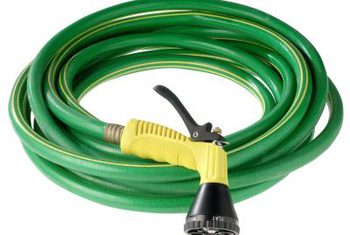Nonrec_Tangler: (16, 1, 335, 224)
